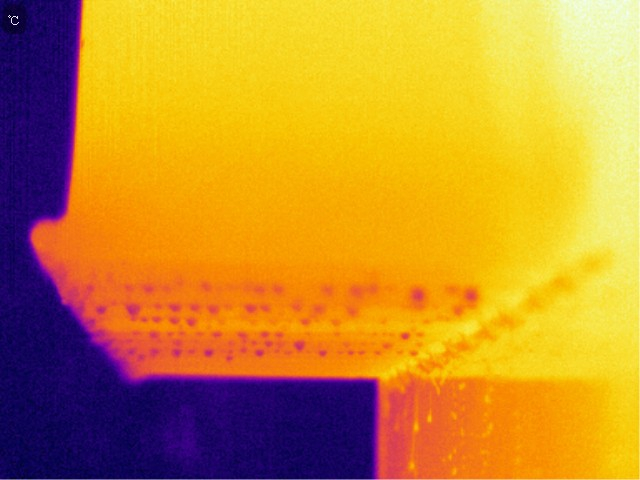Water: (241, 301, 275, 315), (410, 287, 426, 305), (463, 287, 481, 303), (124, 301, 142, 316), (165, 298, 185, 311), (205, 303, 225, 316), (141, 280, 157, 296), (236, 326, 252, 341), (295, 316, 316, 327), (311, 301, 328, 314), (317, 346, 332, 360), (292, 339, 308, 352), (352, 285, 365, 300), (168, 348, 184, 360), (398, 331, 414, 343), (234, 343, 247, 357), (187, 299, 201, 312), (254, 346, 266, 361), (332, 317, 346, 329), (147, 327, 162, 338), (211, 327, 224, 339), (201, 348, 216, 358), (186, 318, 198, 330), (95, 305, 107, 317), (271, 330, 285, 339), (169, 316, 180, 324), (260, 330, 270, 338), (152, 315, 162, 322)
